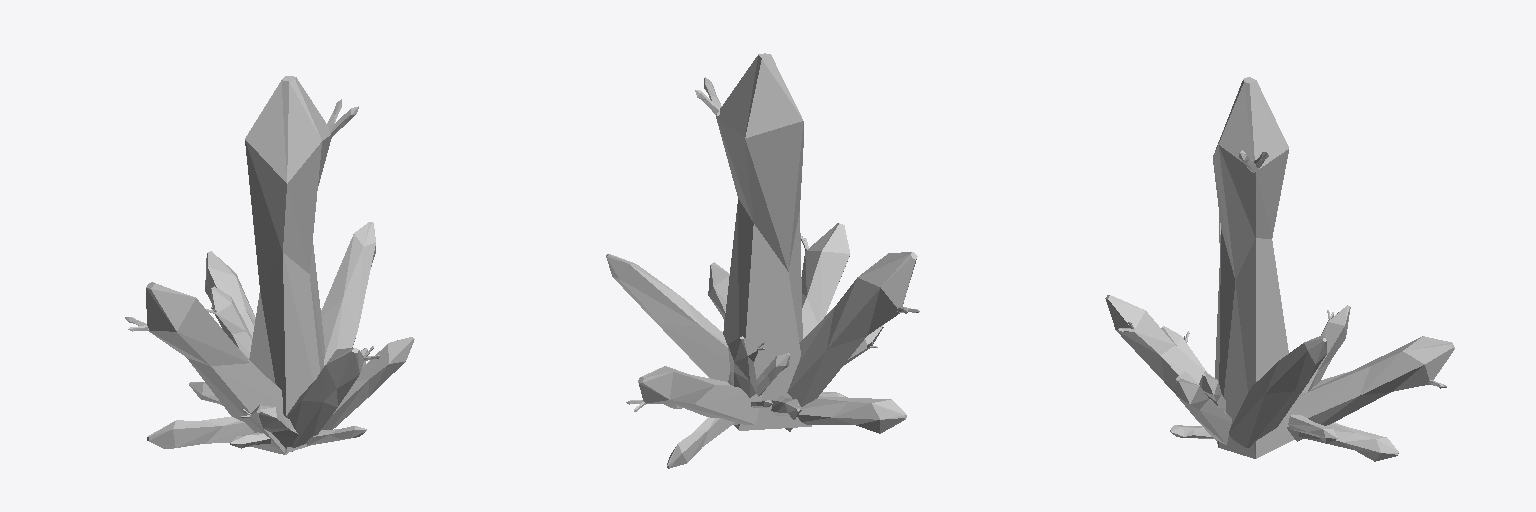
Rendered from Crystal.obj.
3 renders of one model, left to right at view 1: azimuth 30°, elevation 25°; view 2: azimuth 150°, elevation 25°; view 3: azimuth 270°, elevation 25°, orthographic.
Parts seen in each view (by area): view 1: Circle; view 2: Circle; view 3: Circle.
Boxes of the visible parts, x1=… form: Circle: x1=125, y1=76, x2=414, y2=454; Circle: x1=606, y1=53, x2=919, y2=468; Circle: x1=1105, y1=77, x2=1454, y2=461.
Size of the model in its own units: 4.34 by 5.47 by 4.7.